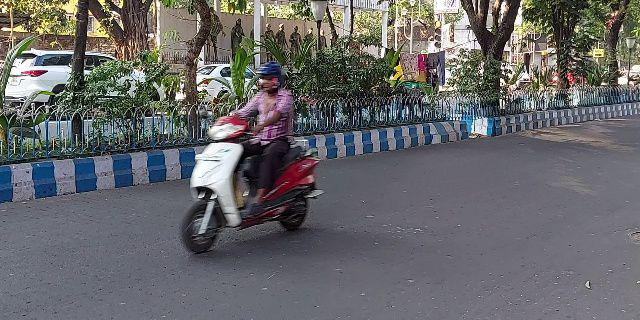Motorbike: (173, 60, 323, 258)
